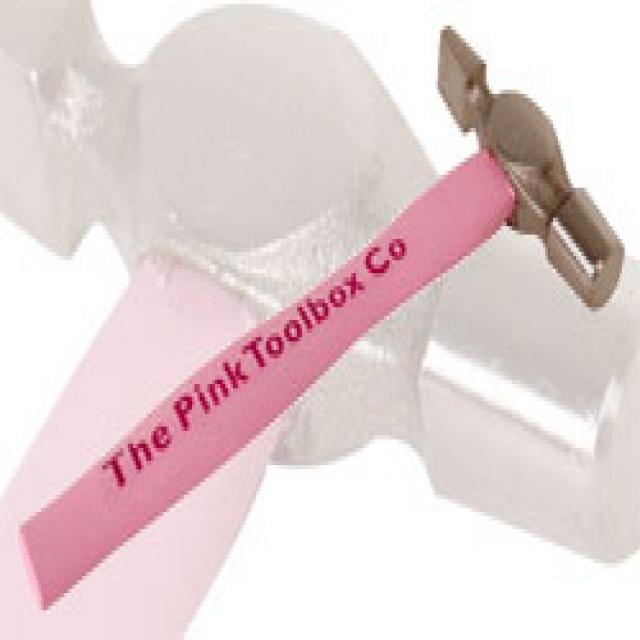hammer: (16, 20, 634, 630)
